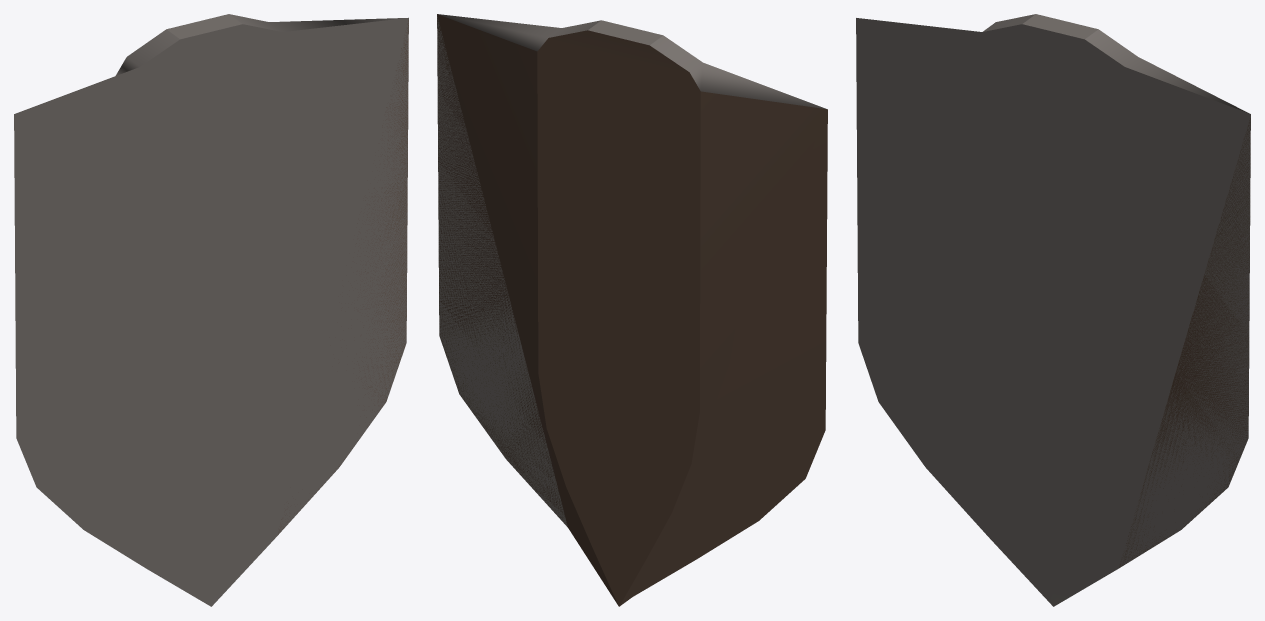
The model's file is P_Shield_1.fbx.
The picture shows the model from 3 angles, left to right: view 1: azimuth 30°, elevation 25°; view 2: azimuth 150°, elevation 25°; view 3: azimuth 330°, elevation 25°; orthographic projection.
Visible parts, largest first — view 1: pCube1; view 2: pCube1; view 3: pCube1.
Boxes of the visible parts, left/top/right/bottom form: pCube1: left=14, top=14, right=408, bottom=606; pCube1: left=437, top=14, right=827, bottom=606; pCube1: left=856, top=14, right=1250, bottom=606.
Bounding box in the file's own units: 74 × 103 × 4.5.
